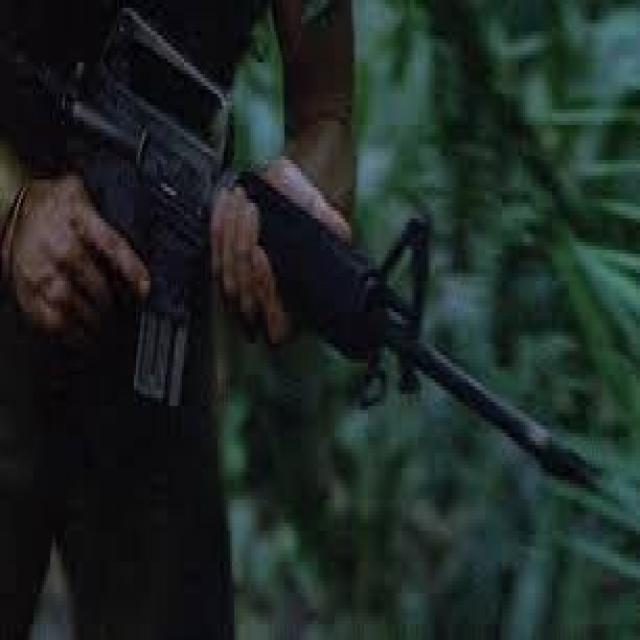weapon: (0, 8, 591, 491)
